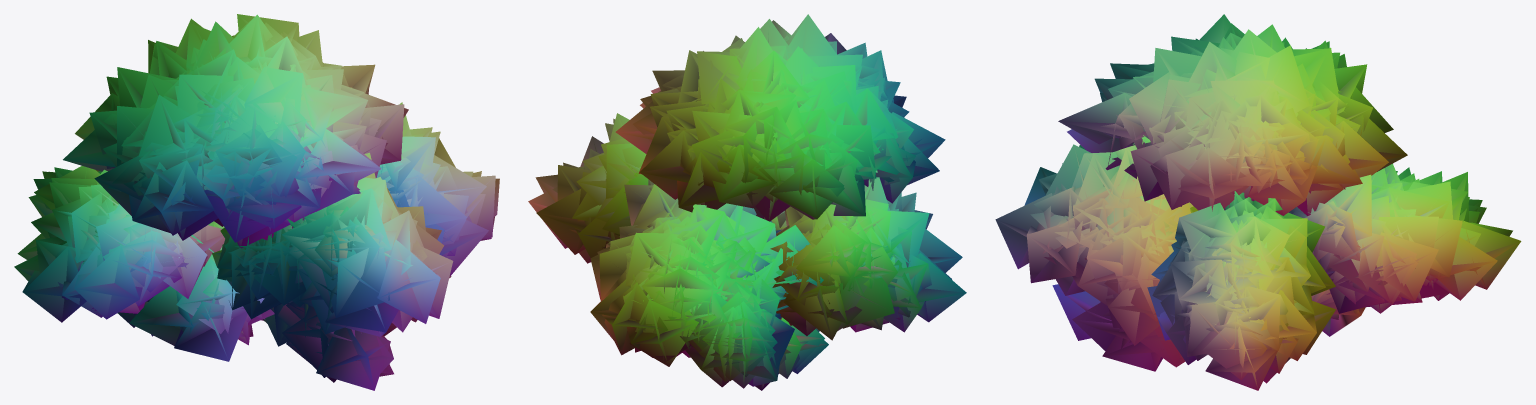
Rendered from Forest_plant_tree_089_a.fbx.
3 views of the same model, side by side, from view 1: azimuth 30°, elevation 25°; view 2: azimuth 150°, elevation 25°; view 3: azimuth 270°, elevation 25° (orthographic). The views are drawn at different scales.
Visible parts, largest first — view 1: attribwrangle50; view 2: attribwrangle50; view 3: attribwrangle50.
Boxes of the visible parts, bbox=[...] form: attribwrangle50: bbox=[14, 14, 499, 390]; attribwrangle50: bbox=[528, 14, 966, 390]; attribwrangle50: bbox=[995, 14, 1521, 390].
Size of the model in its own units: 12754 by 8970 by 12995.
